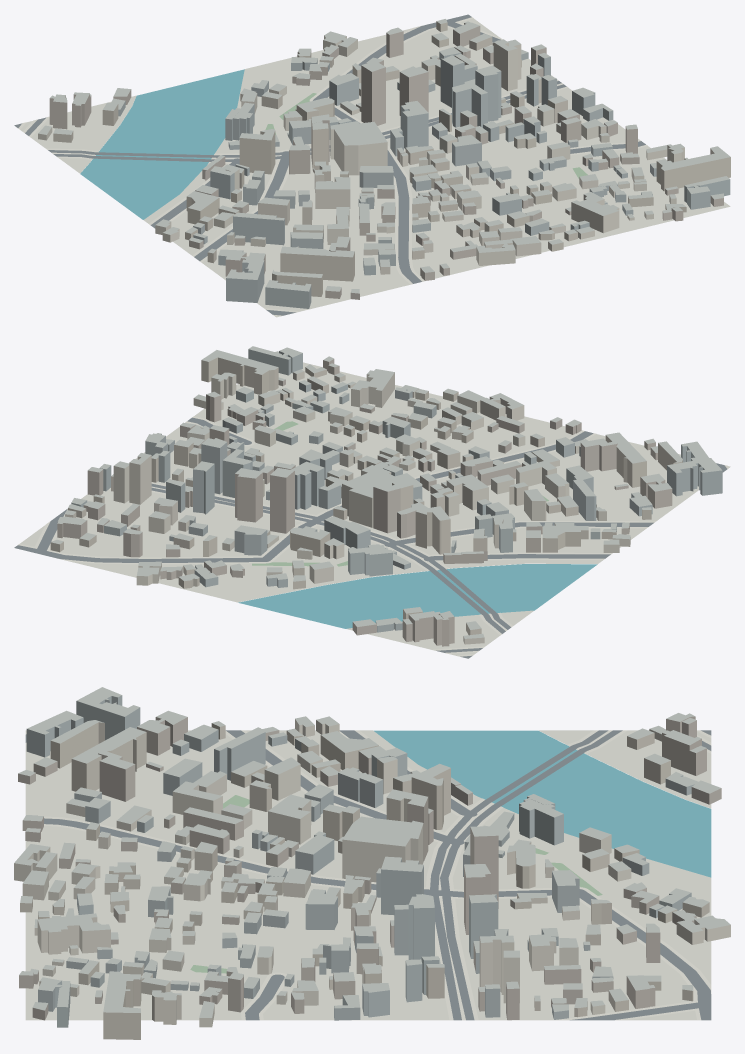
3 renders of one model, top to bottom at view 1: azimuth 30°, elevation 25°; view 2: azimuth 150°, elevation 25°; view 3: azimuth 270°, elevation 25°, orthographic. The views are drawn at different scales.
Parts seen in each view (by area): view 1: city; view 2: city; view 3: city.
Part boxes in pixels (x1,y1,x2,y2): city: (14,14,730,317); city: (14,346,730,658); city: (14,687,730,1039).
Bounding box in the file's own units: 557 × 59.08 × 523.
